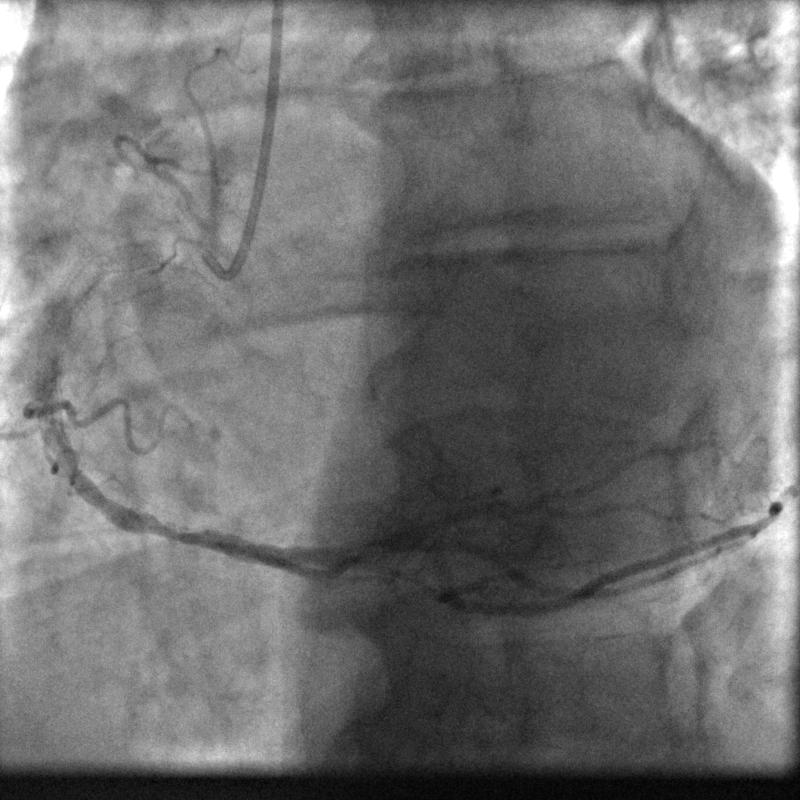Stenosis: (137, 516, 202, 550)
